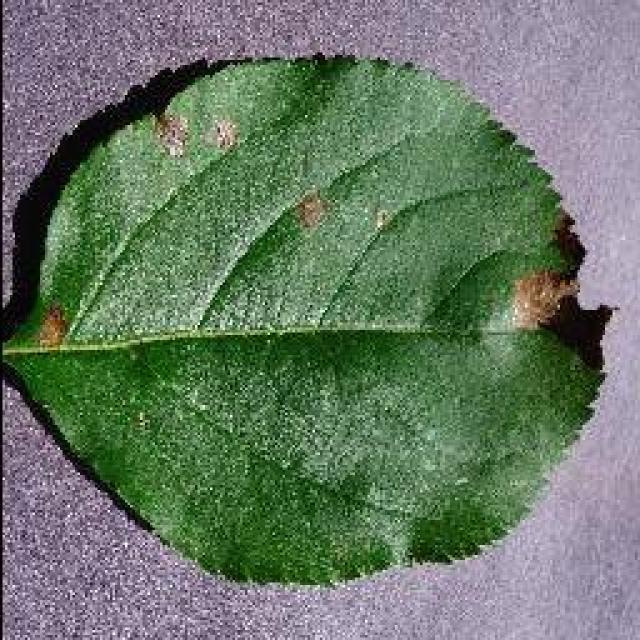apple black rot: (0, 50, 615, 588)
